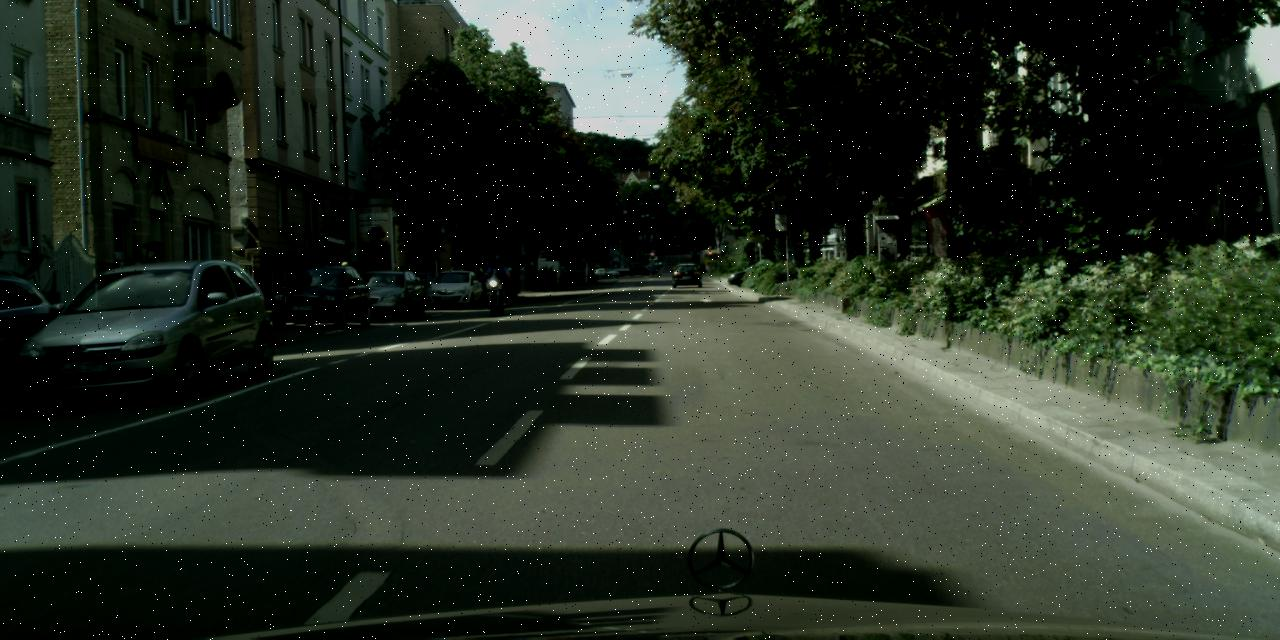ped: (487, 253, 507, 306), (320, 258, 338, 301)
